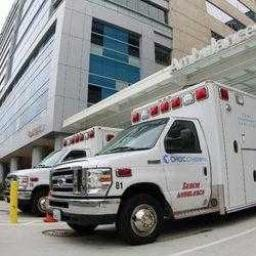Ambulance: (50, 81, 255, 243), (4, 126, 120, 215)
